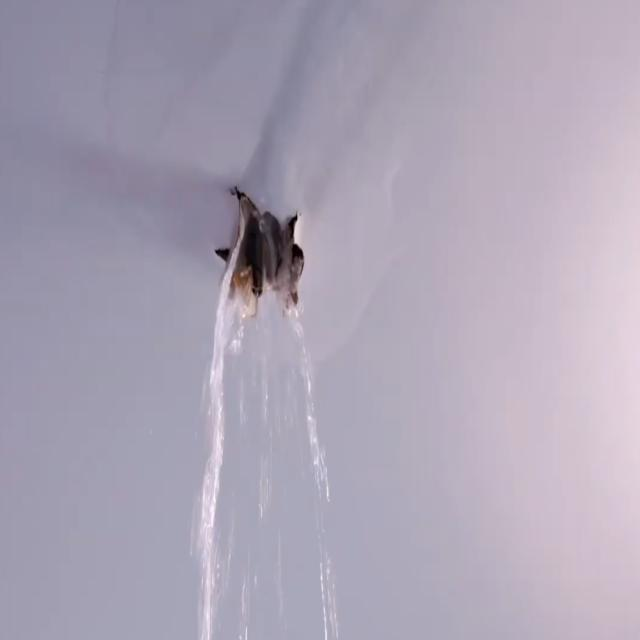leak: (194, 189, 339, 638)
